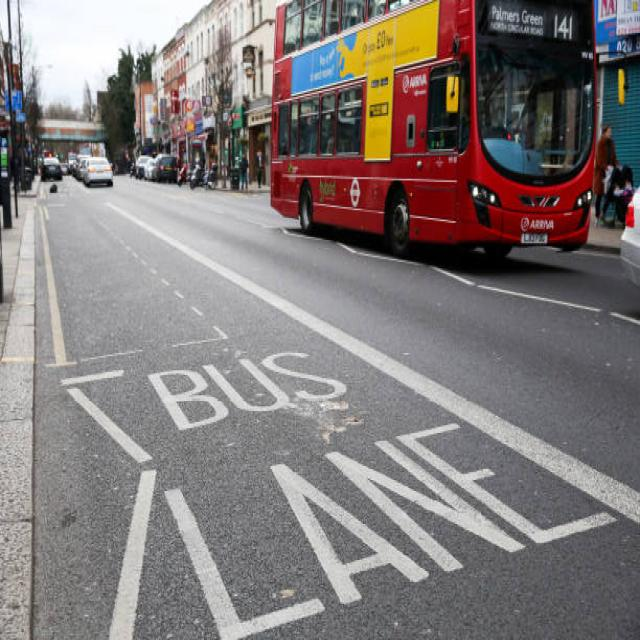BUS LANE: (145, 340, 623, 640)
